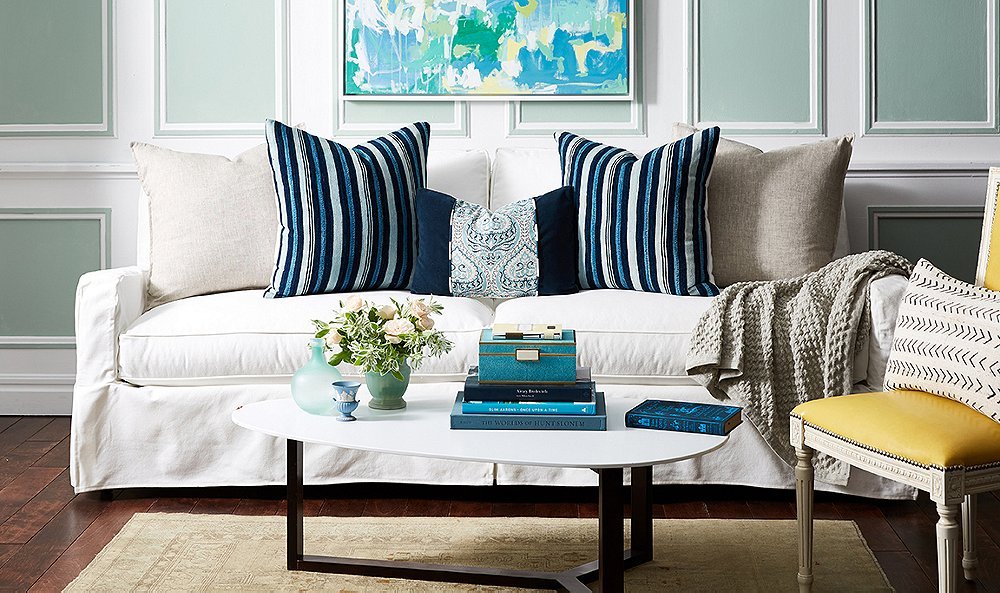chairs: (52, 121, 944, 499), (784, 155, 1000, 593)
